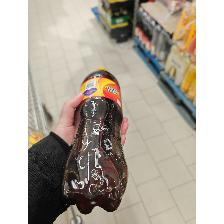Soda: (60, 64, 130, 216)
